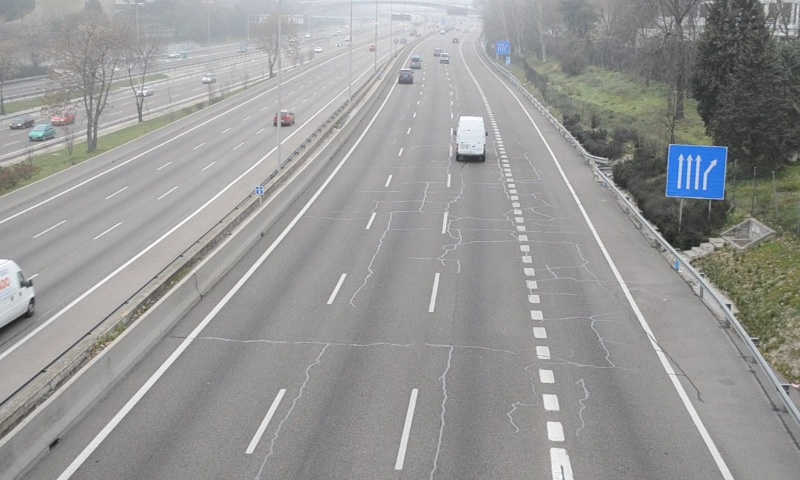car: (398, 68, 413, 84)
van: (454, 115, 487, 160)
